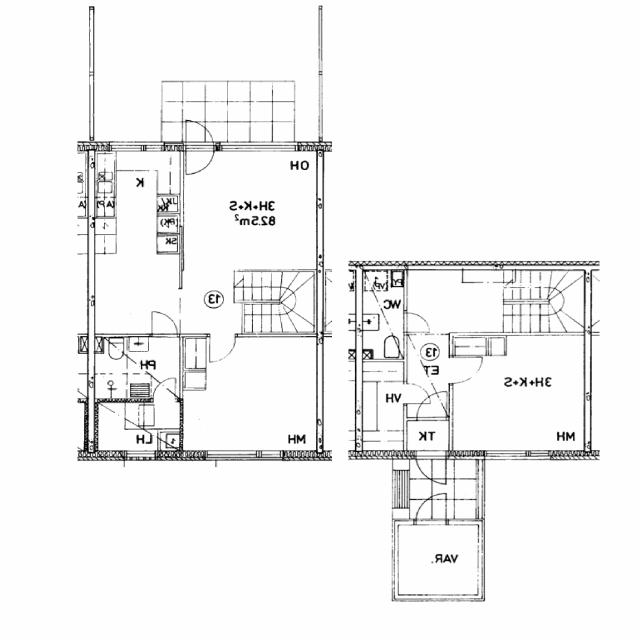door: (415, 450, 447, 488), (416, 492, 446, 525), (449, 357, 483, 384), (187, 142, 214, 176), (417, 390, 446, 420), (187, 118, 214, 150), (111, 394, 141, 420), (210, 334, 235, 360), (152, 311, 177, 337), (404, 312, 429, 332), (404, 384, 429, 403)
